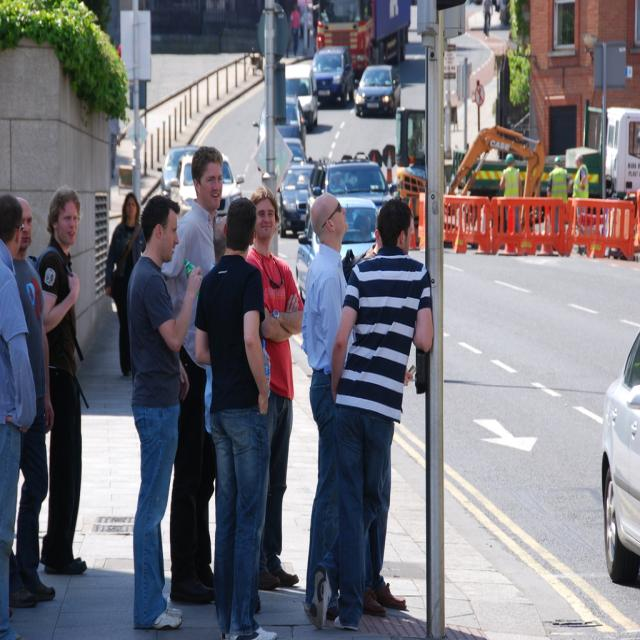car: (353, 62, 400, 114), (310, 47, 354, 102)
